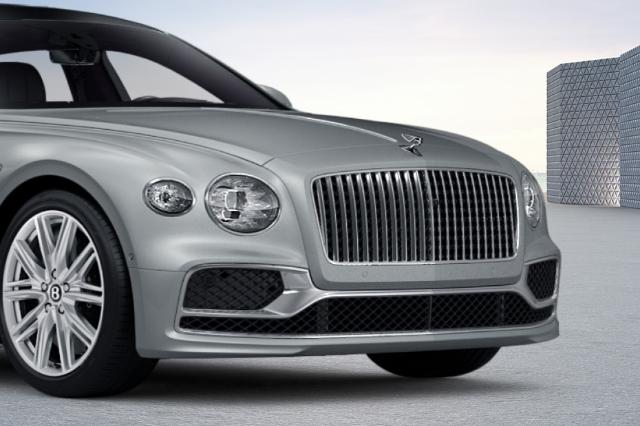bentley: (1, 3, 562, 398)
